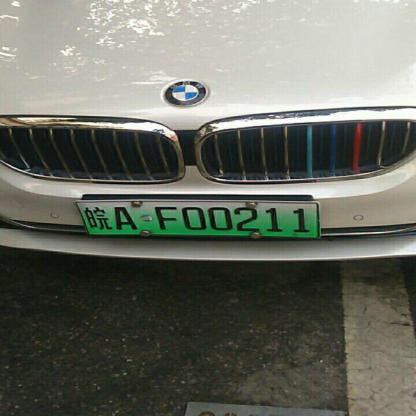lp: (75, 202, 318, 236)
